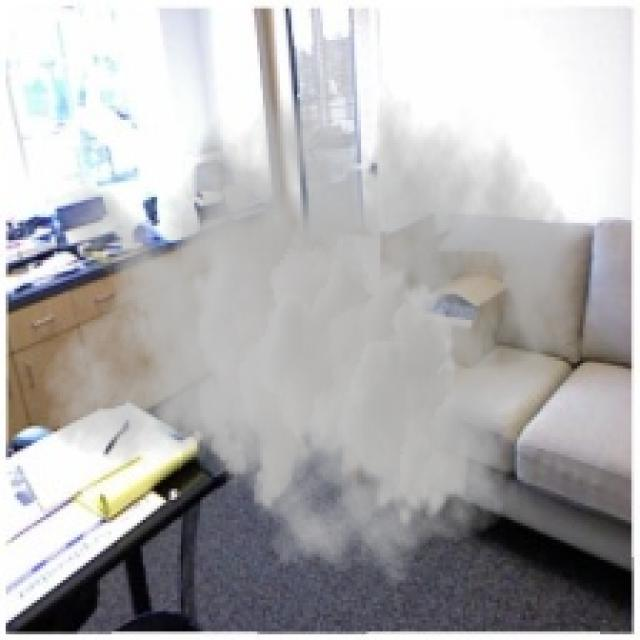smoke: (40, 37, 580, 589)
